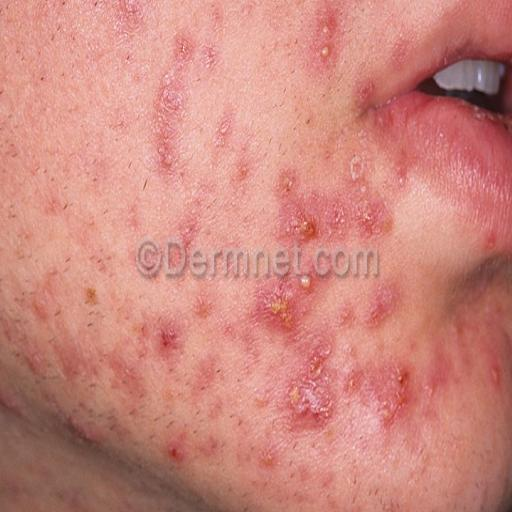Skin_Lesion: (142, 23, 194, 181), (285, 344, 341, 440), (277, 168, 327, 250), (306, 0, 346, 78), (377, 360, 413, 432), (256, 278, 300, 334), (366, 281, 401, 330), (356, 196, 389, 244), (110, 0, 144, 42), (170, 205, 200, 247), (390, 29, 414, 74), (156, 312, 178, 358), (211, 112, 237, 150), (196, 278, 217, 320), (31, 286, 54, 322), (170, 30, 192, 66), (388, 153, 408, 192), (168, 428, 185, 470), (488, 358, 505, 392), (301, 265, 319, 296), (94, 248, 112, 276), (86, 282, 100, 310), (85, 0, 108, 15), (484, 231, 500, 250), (50, 0, 71, 12)
